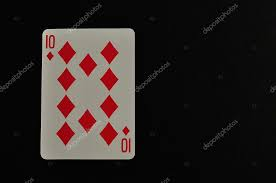ten of diamonds: (41, 29, 135, 159)
